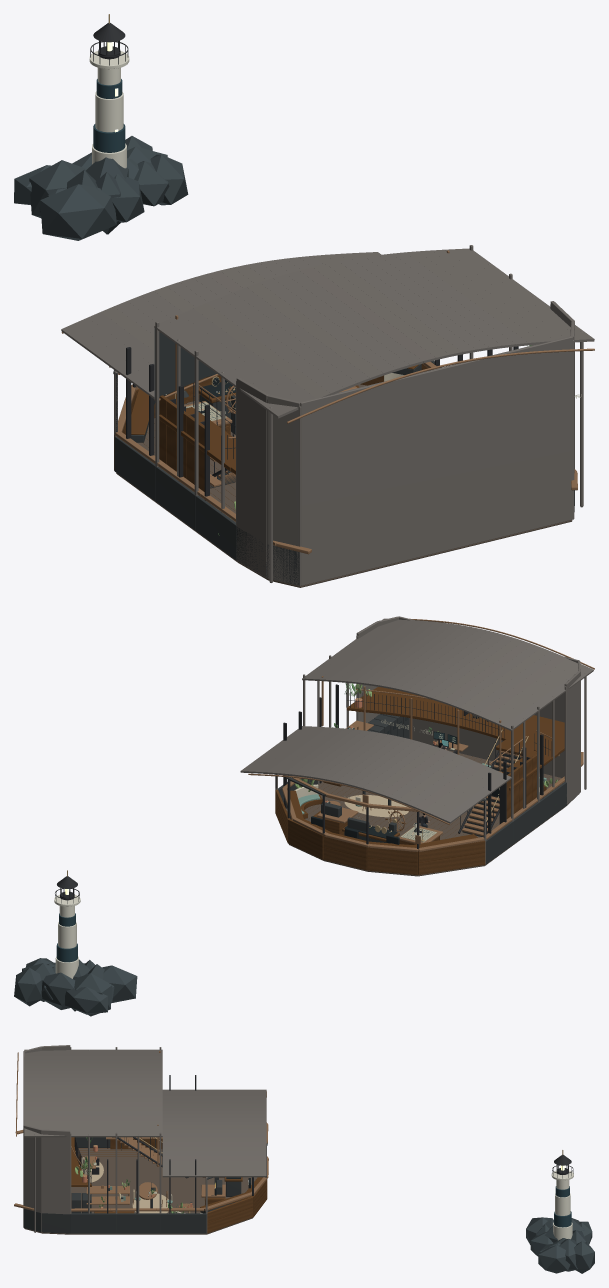
The model's file is luffor-wheelhouse.glb.
3 views of the same model, one above another, from view 1: azimuth 30°, elevation 25°; view 2: azimuth 150°, elevation 25°; view 3: azimuth 270°, elevation 25° (orthographic). The views are drawn at different scales.
Parts seen in each view (by area): view 1: Wheelhouse_Interior_warm ivory, Wheelhouse_Coast_slate, Wheelhouse_Cabin_sea-glass enamel, Wheelhouse_Timber_oiled teak, Wheelhouse_Frames_painted teal, Wheelhouse_Timber_honey oak, Wheelhouse_Lighthouse_chalk, Wheelhouse_Deck_sun-warmed teak, Wheelhouse_Lighthouse_navy stripe; view 2: Wheelhouse_Interior_warm ivory, Wheelhouse_Timber_oiled teak, Wheelhouse_Timber_honey oak, Wheelhouse_Coast_slate, Wheelhouse_Cabin_sea-glass enamel, Wheelhouse_Frames_painted teal, Wheelhouse_Deck_sun-warmed teak, Wheelhouse_Lighthouse_chalk, Wheelhouse_Instruments_charcoal, Wheelhouse_Rugs_woven sand; view 3: Wheelhouse_Interior_warm ivory, Wheelhouse_Cabin_sea-glass enamel, Wheelhouse_Deck_sun-warmed teak, Wheelhouse_Timber_honey oak, Wheelhouse_Coast_slate, Wheelhouse_Timber_oiled teak, Wheelhouse_Frames_painted teal, Wheelhouse_Lighthouse_chalk, Wheelhouse_Rugs_woven sand, Wheelhouse_Lighthouse_navy stripe.
Boxes of the visible parts, bbox=[...] form: Wheelhouse_Interior_warm ivory: bbox=[61, 245, 594, 585]; Wheelhouse_Coast_slate: bbox=[14, 136, 188, 240]; Wheelhouse_Cabin_sea-glass enamel: bbox=[113, 328, 574, 585]; Wheelhouse_Timber_oiled teak: bbox=[114, 364, 427, 510]; Wheelhouse_Frames_painted teal: bbox=[90, 23, 518, 500]; Wheelhouse_Timber_honey oak: bbox=[61, 250, 594, 554]; Wheelhouse_Lighthouse_chalk: bbox=[89, 51, 129, 168]; Wheelhouse_Deck_sun-warmed teak: bbox=[116, 384, 572, 587]; Wheelhouse_Lighthouse_navy stripe: bbox=[93, 79, 125, 152]; Wheelhouse_Interior_warm ivory: bbox=[240, 616, 593, 864]; Wheelhouse_Timber_oiled teak: bbox=[275, 687, 564, 875]; Wheelhouse_Timber_honey oak: bbox=[248, 618, 594, 851]; Wheelhouse_Coast_slate: bbox=[14, 958, 137, 1016]; Wheelhouse_Cabin_sea-glass enamel: bbox=[278, 714, 566, 864]; Wheelhouse_Frames_painted teal: bbox=[55, 684, 551, 903]; Wheelhouse_Deck_sun-warmed teak: bbox=[286, 749, 579, 876]; Wheelhouse_Lighthouse_chalk: bbox=[54, 894, 80, 978]; Wheelhouse_Instruments_charcoal: bbox=[311, 718, 499, 844]; Wheelhouse_Rugs_woven sand: bbox=[344, 795, 408, 817]; Wheelhouse_Interior_warm ivory: bbox=[23, 1045, 266, 1233]; Wheelhouse_Cabin_sea-glass enamel: bbox=[23, 1137, 267, 1233]; Wheelhouse_Deck_sun-warmed teak: bbox=[24, 1148, 257, 1234]; Wheelhouse_Timber_honey oak: bbox=[14, 1051, 268, 1211]; Wheelhouse_Coast_slate: bbox=[526, 1217, 594, 1273]; Wheelhouse_Timber_oiled teak: bbox=[71, 1137, 267, 1233]; Wheelhouse_Frames_painted teal: bbox=[74, 1075, 573, 1213]; Wheelhouse_Lighthouse_chalk: bbox=[551, 1170, 573, 1240]; Wheelhouse_Rugs_woven sand: bbox=[81, 1157, 170, 1213]; Wheelhouse_Lighthouse_navy stripe: bbox=[554, 1186, 571, 1227].
Size of the model in its own units: 17.04 by 11.17 by 40.15.
Materials: 32 (1 with a texture image).
